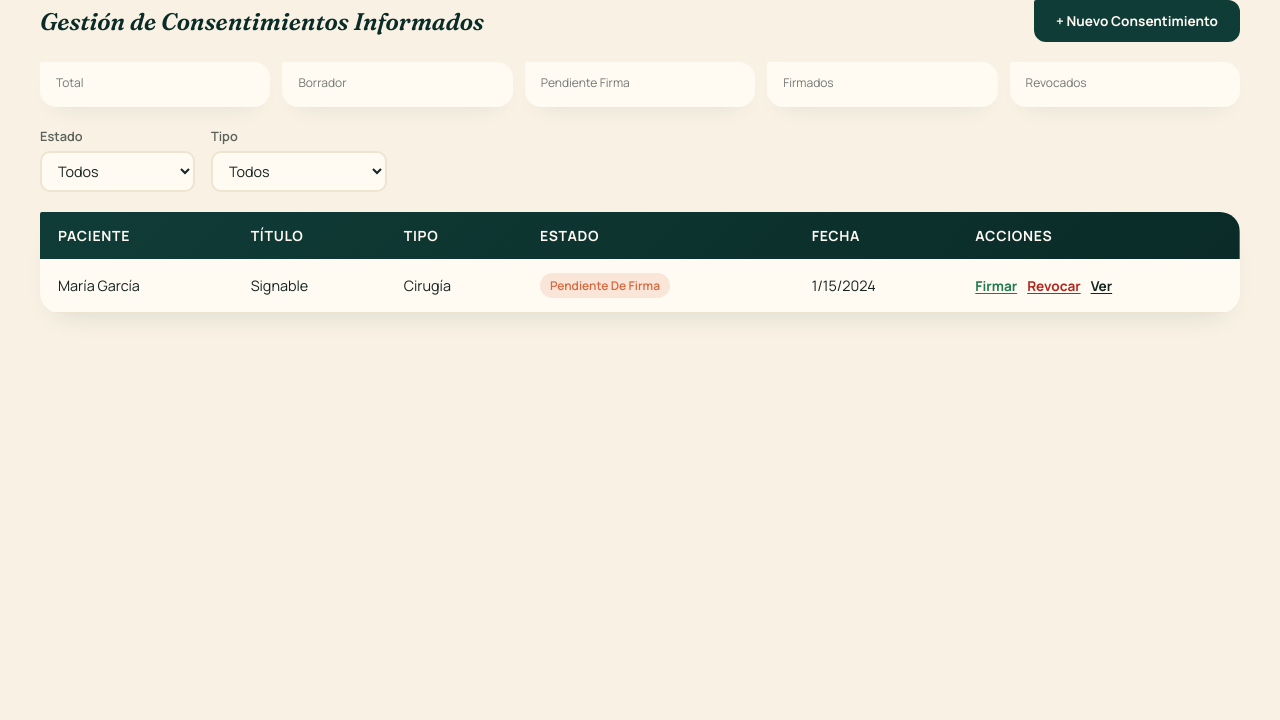
it: ConsentManagement › Consent list actions › opens signature modal when Firmar clicked
Expected: the text "Signable" is shown, [233,259,386,312]
Step 1. Click the button "Firmar" → (996, 286), box [975,276,1017,294]
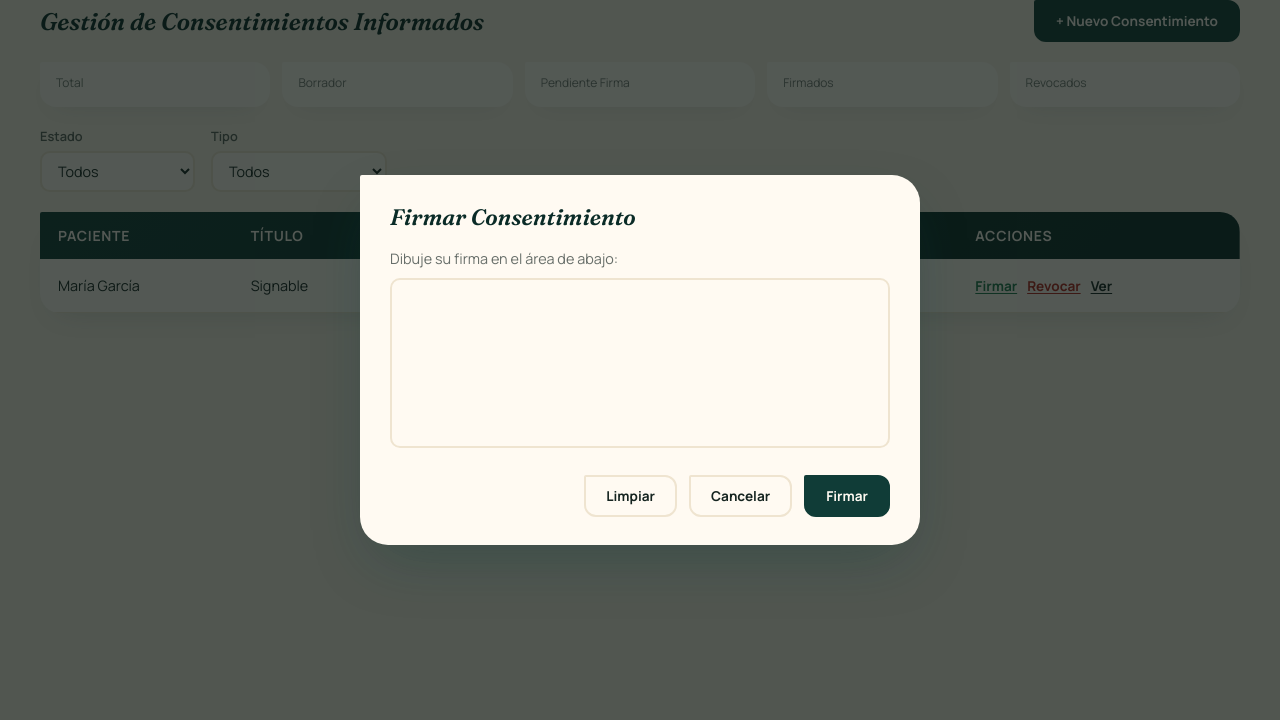
Expected: the heading "Firmar Consentimiento" is shown, [390,203,636,231]
